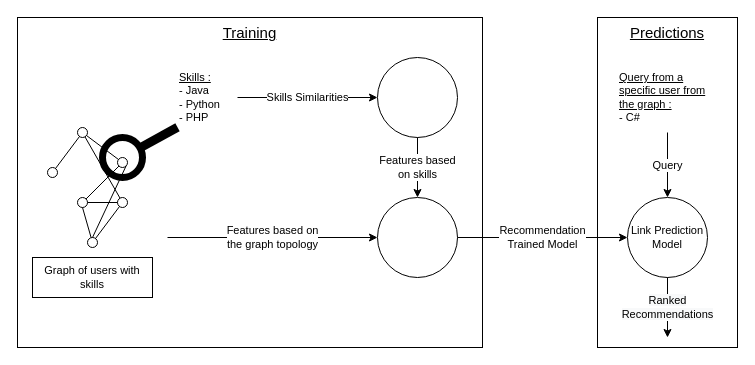
Some shapes in this 755 by 365 pixel diagram are drawn without their labels. Each missing label, with the centre of its shape:
Clustering: the point at 417,97
Link Prediction Training: the point at 417,237
